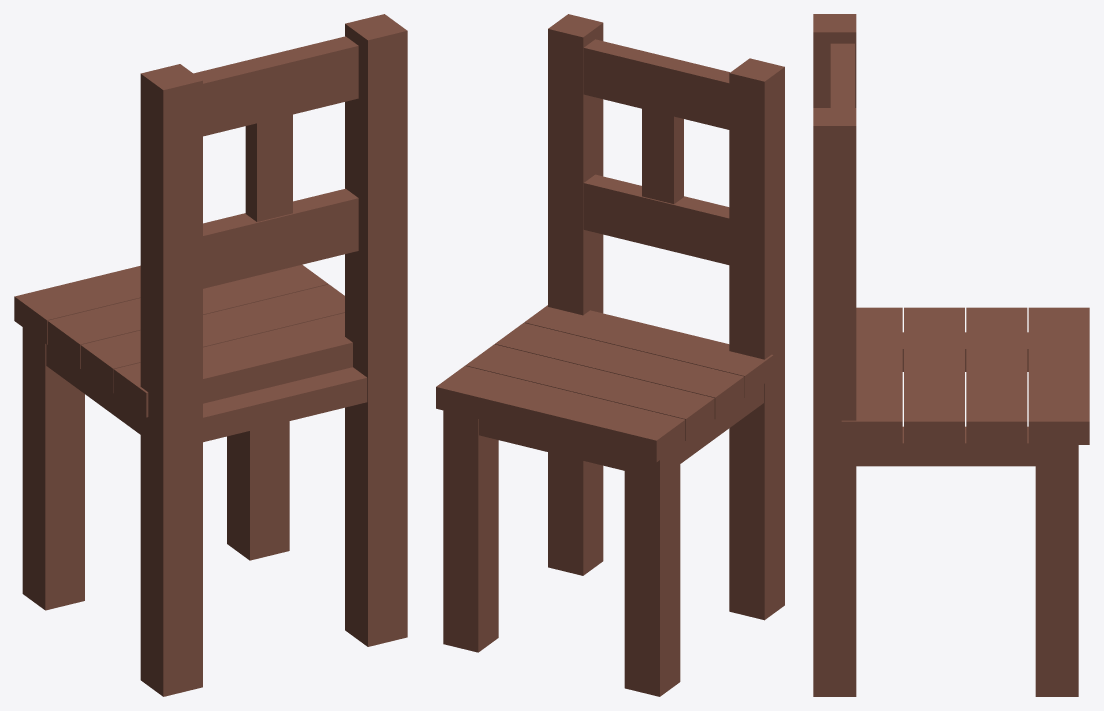
Rendered from Chair.fbx.
3 views of the same model, side by side, from view 1: azimuth 30°, elevation 25°; view 2: azimuth 150°, elevation 25°; view 3: azimuth 270°, elevation 25° (orthographic). The views are drawn at different scales.
Parts seen in each view (by area): view 1: Chair; view 2: Chair; view 3: Chair.
Boxes of the visible parts, x1,y1,x2,y2 form: Chair: (14, 14, 407, 696); Chair: (436, 14, 784, 696); Chair: (813, 14, 1089, 696).
Bounding box in the file's own units: 239 × 558 × 245.
